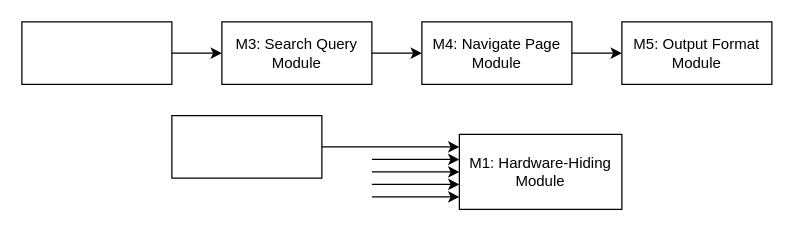
The diagram is 794 pixels wide and 231 high, and some of its shapes have lost their labels. The box of each missing label's shape, as (x1, y1, x2, y2) in pixels:
M2: Input Format Module: (21, 21, 172, 84)
M6: Main Module: (171, 114, 322, 178)
